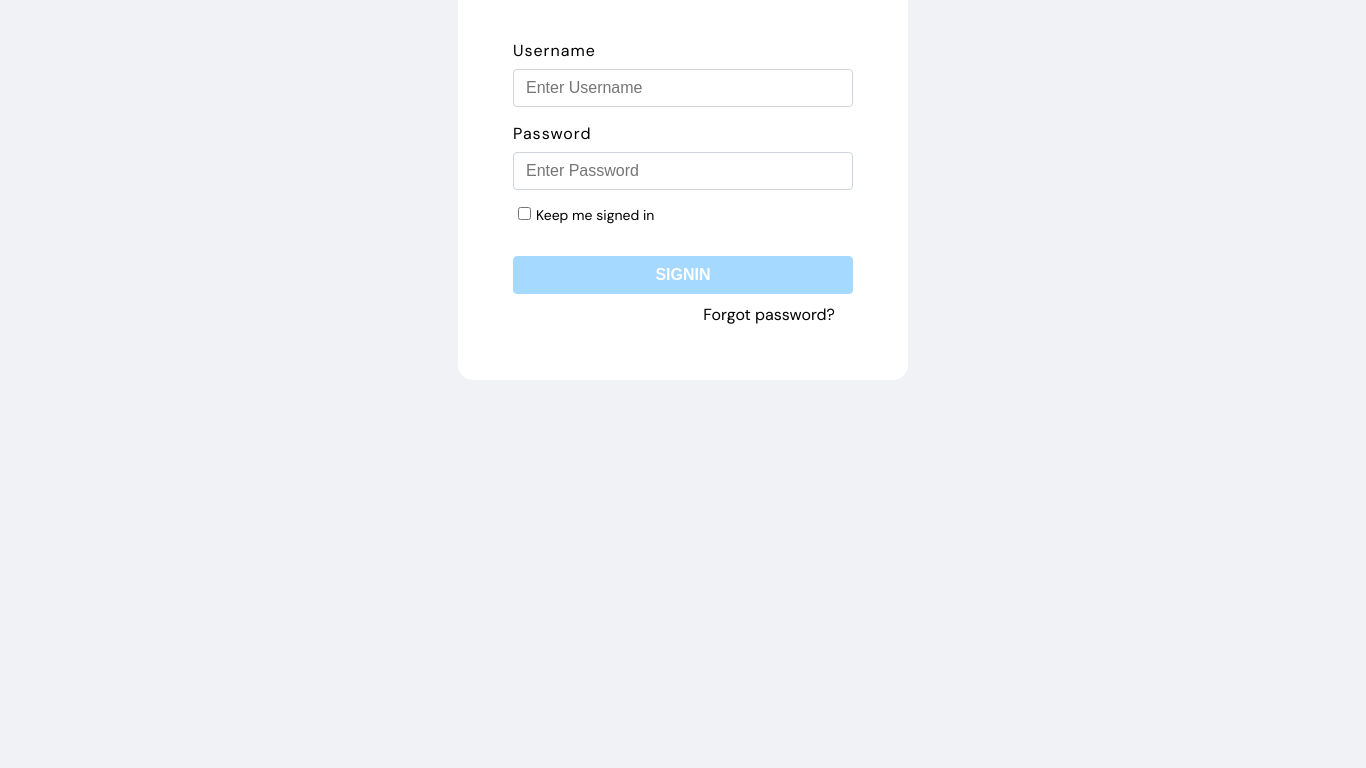
Test: SigIn › Button › should be enabled with inputs
Expected: the button is disabled, [513,256,853,294]
Type "manny" into the field labelled "Username" at {"x": 683, "y": 88}, box [513,69,853,107]
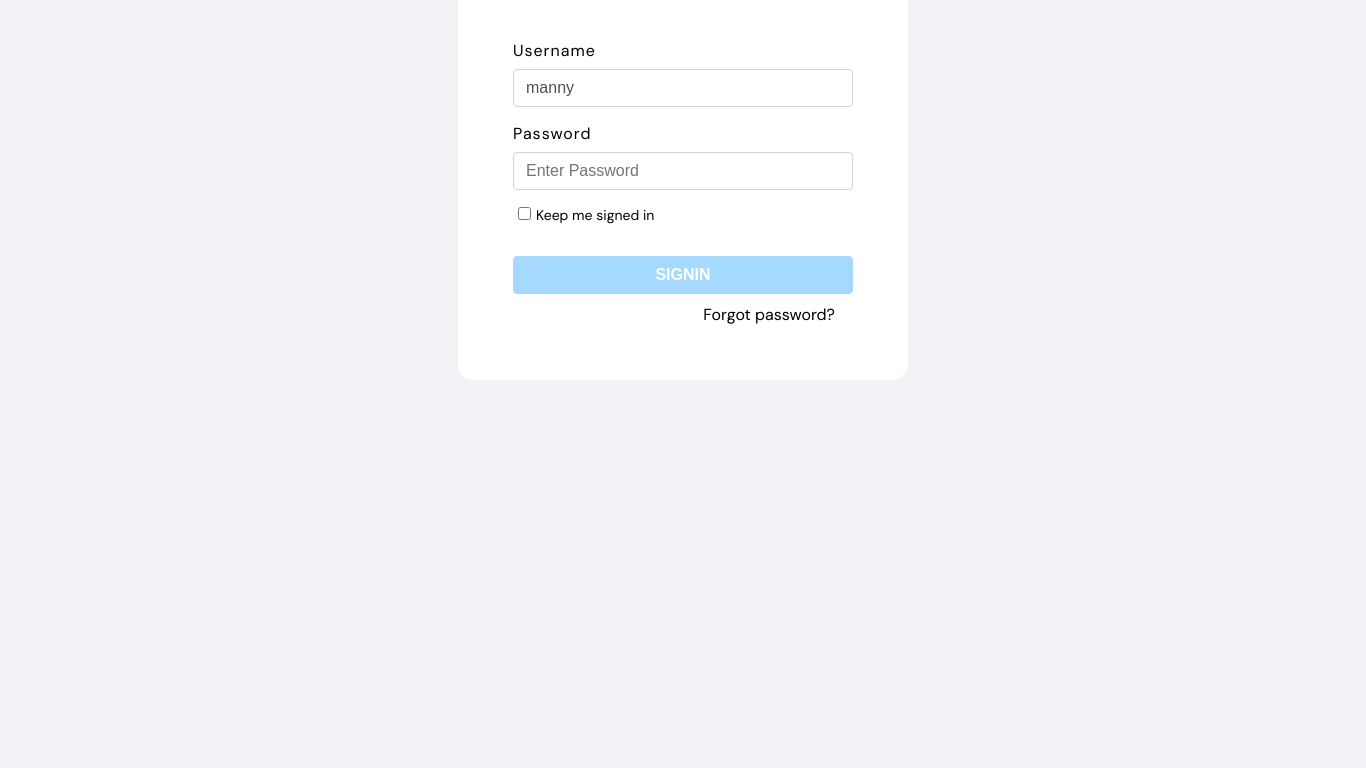
Type "qwerty" into the password field labelled "Password" at {"x": 683, "y": 171}, box [513,152,853,190]
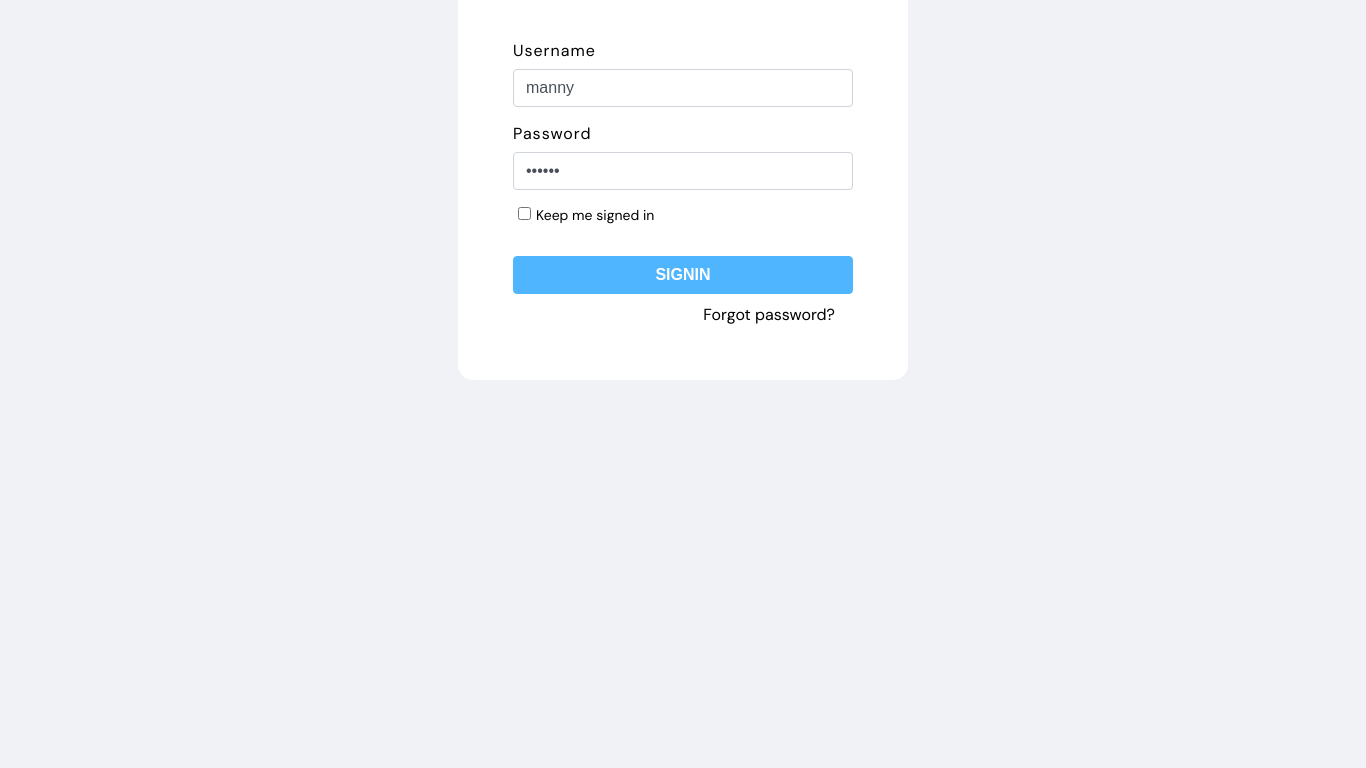
Now the button is enabled, box [513,256,853,294]
